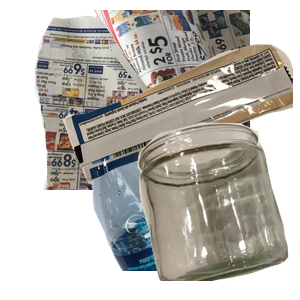glass: (135, 120, 300, 300)
paper: (32, 10, 272, 190)
plastic: (71, 120, 300, 300)
trash: (60, 42, 300, 219)
